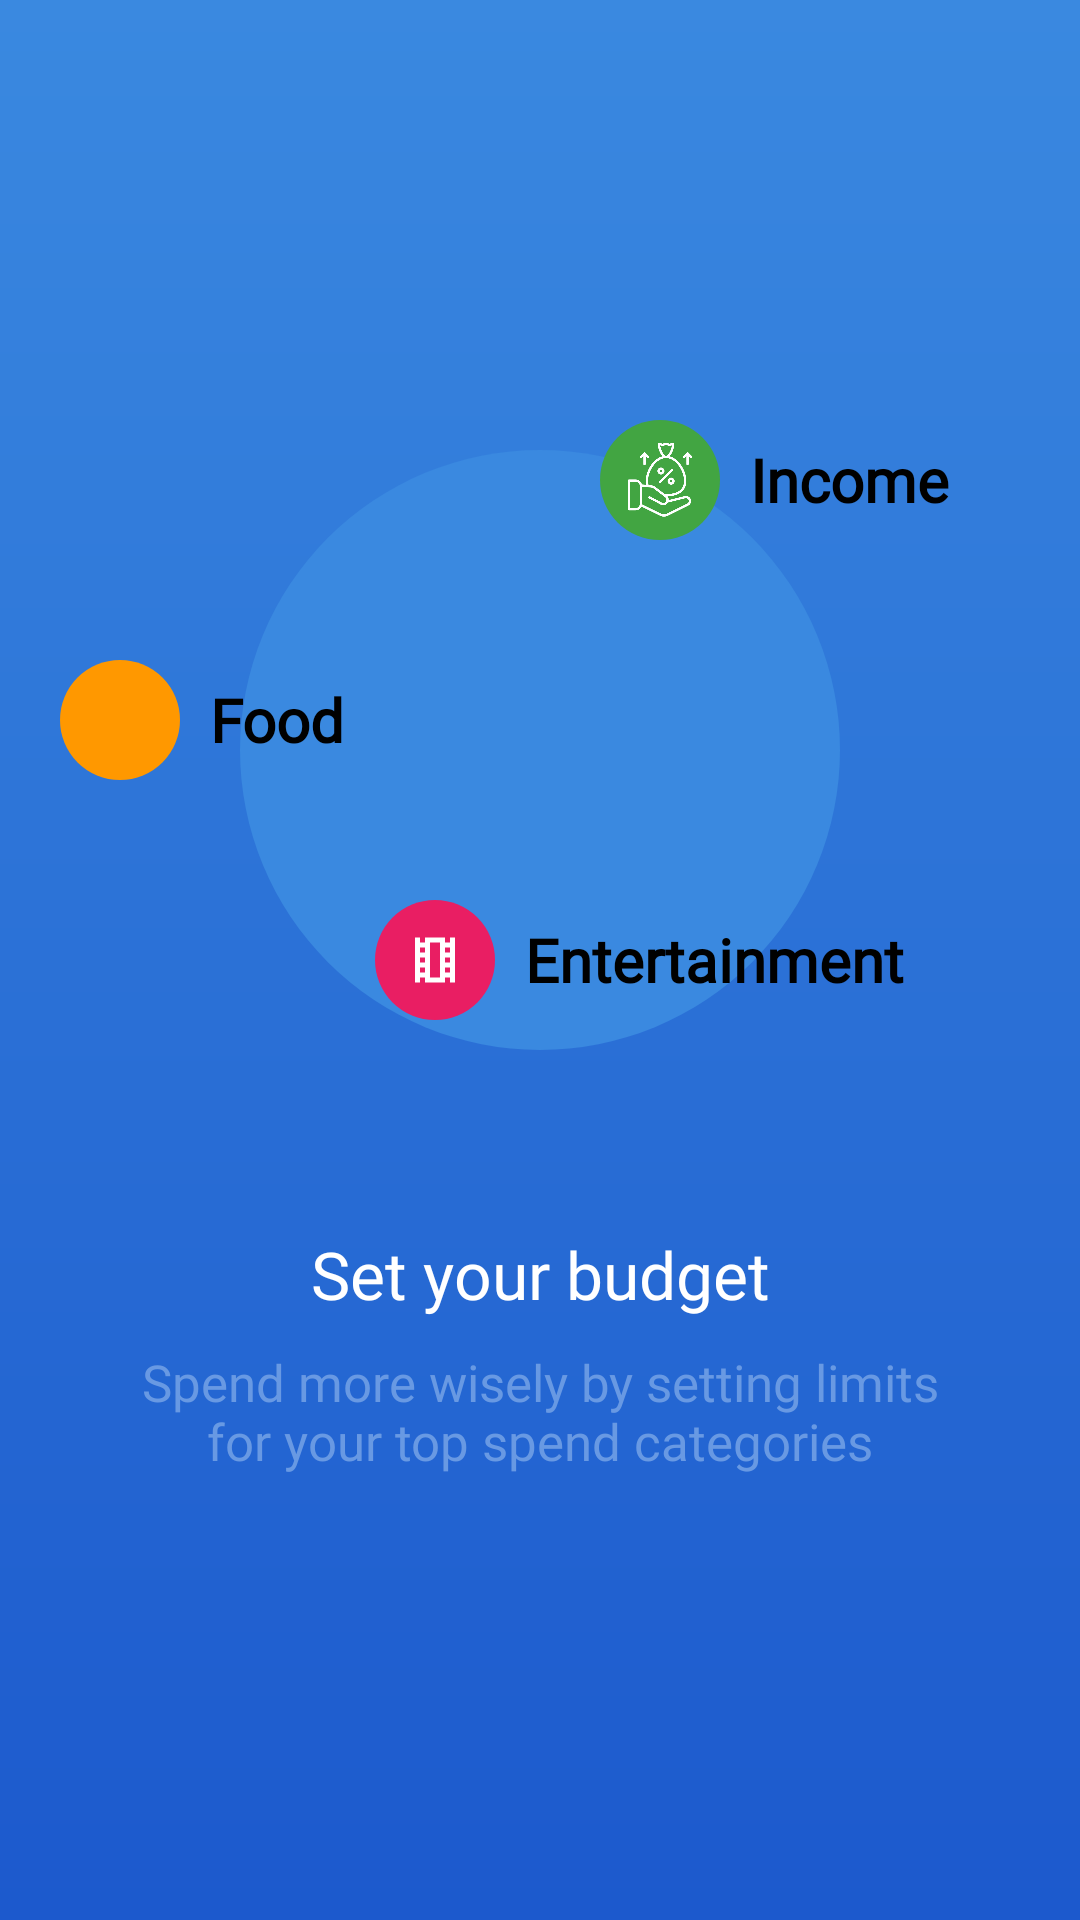

Icon bounding boxes for this 1080w x 1920h phone screenshot, format [left=x1, top=y1, right=x2, bottom=y2]:
local movies: [left=415, top=937, right=455, bottom=983]
